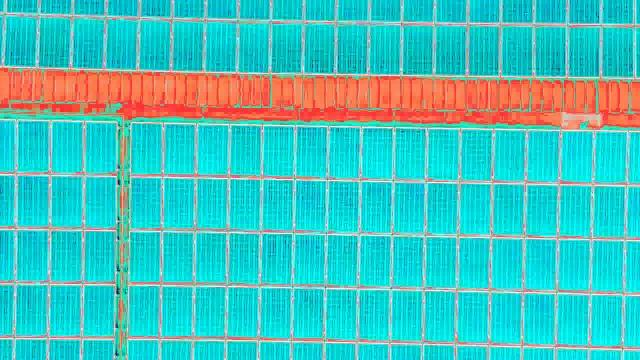dirty: (127, 122, 640, 359), (2, 3, 640, 76), (2, 122, 118, 360)
